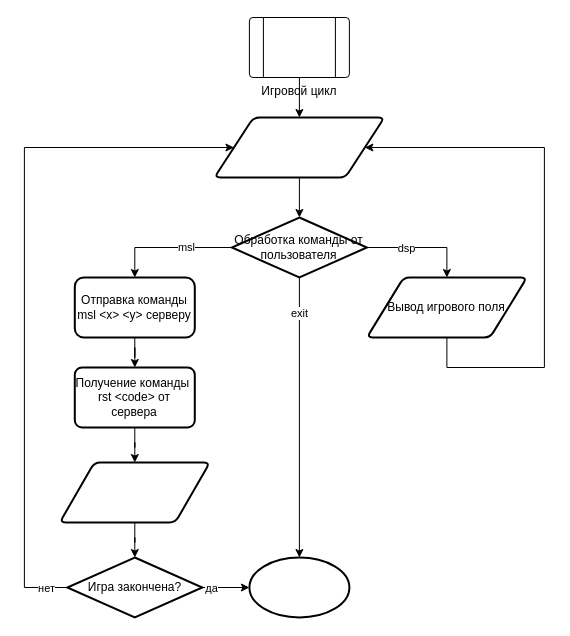
This 570x636 diagram has some shape labels left out. Each missing label, with the centre of its shape:
Вывод информации о сделанном ходе: point 134,492
Конец: point 299,587
Ожидание ввода пользователем команды: point 299,147
